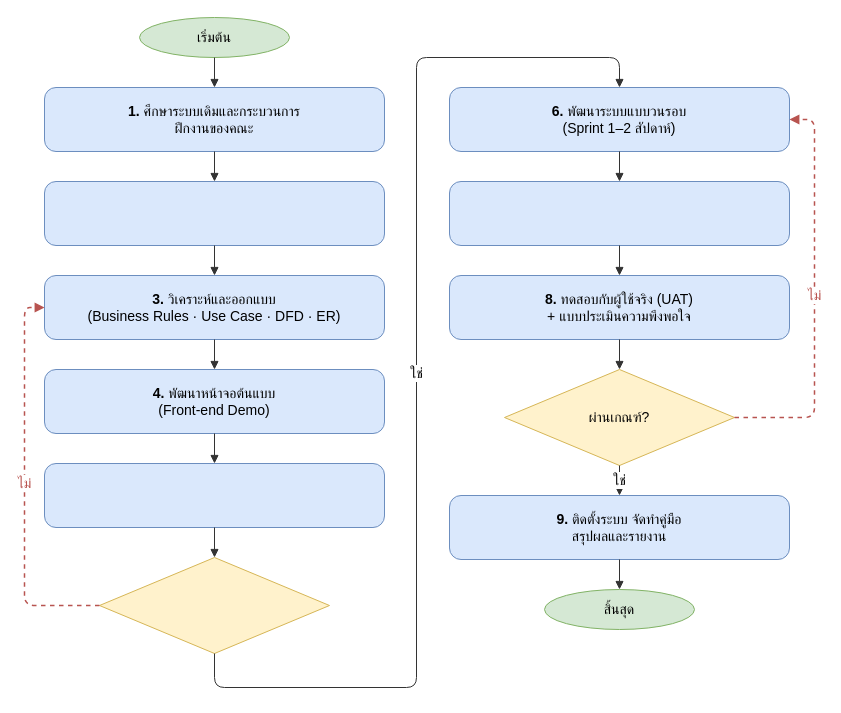
The diagram is 841 pixels wide and 713 high, and some of its shapes have lost their labels. The box of each missing label's shape, as (x1, y1, x2, y2) in pixels:
2. เก็บรวบรวมความต้องการ (สัมภาษณ์เจ้าหน้าที่ · ประชุมอาจารย์): (44, 180, 384, 246)
5. ประชุม Demo กับ ตัวแทนอาจารย์ 8 สาขา: (44, 462, 384, 528)
7. ทดสอบระบบ (Unit · Functional · Load Test): (448, 180, 790, 246)
Requirement ยืนยันแล้ว?: (98, 556, 330, 654)
